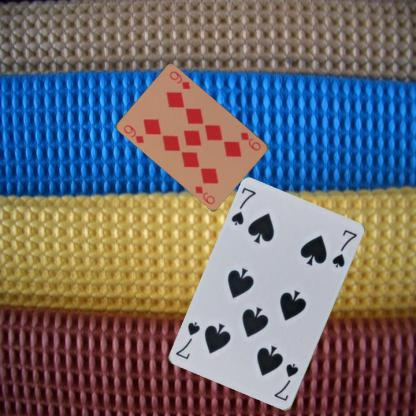7s: (228, 185, 258, 227), (271, 360, 300, 402)
9d: (120, 122, 146, 144), (238, 129, 262, 152)
